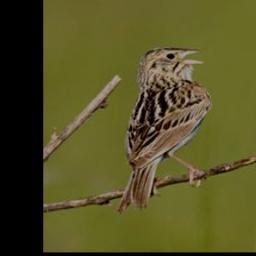Sparrow: (115, 45, 214, 216)
